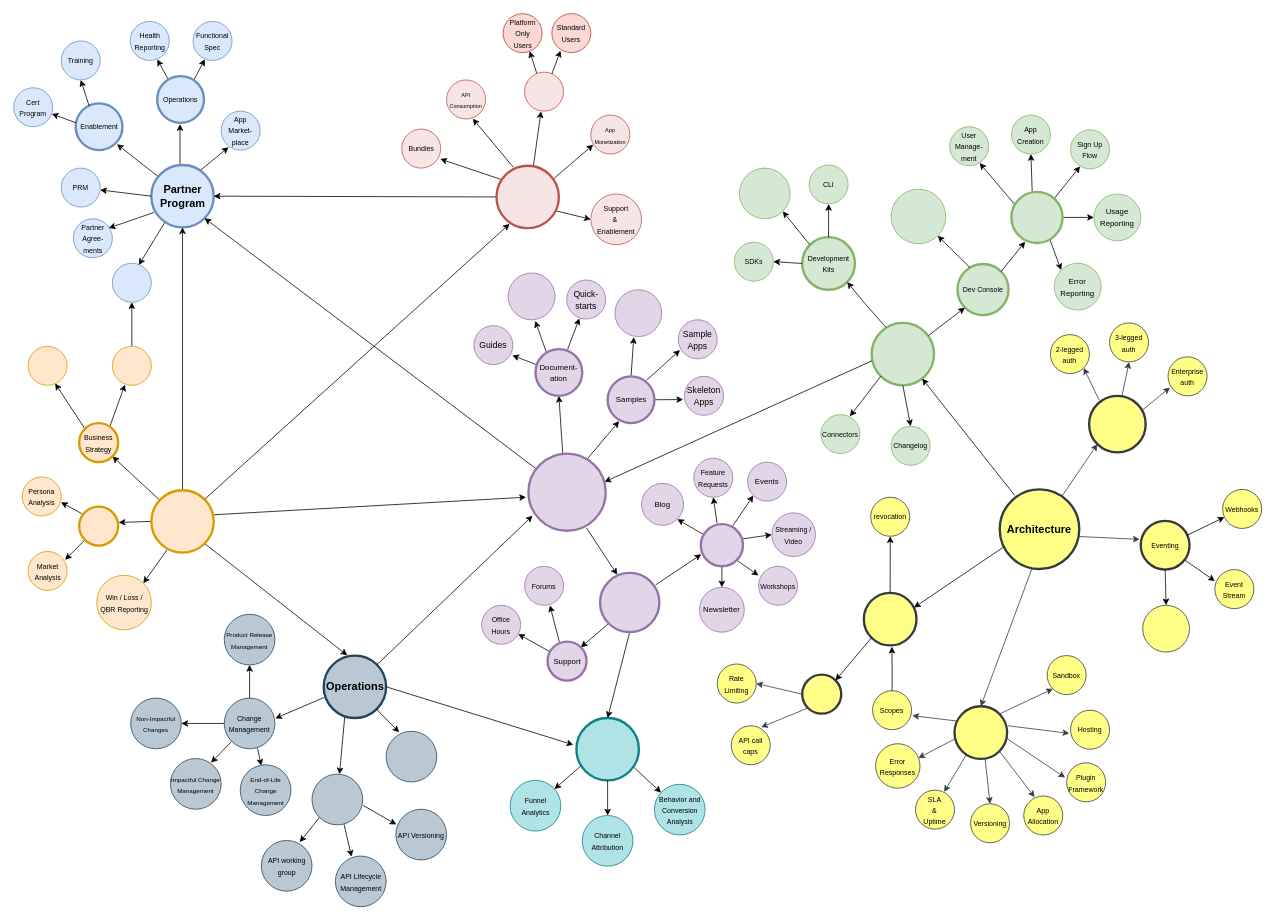
Some shapes in this 1275 by 920 pixel diagram are drawn without their labels. Each missing label, with the centre of its shape:
API Client Collections: the point at 764,193
API Governance: the point at 337,799
API Key Management: the point at 918,216
API Reference: the point at 531,296
App / API Management: the point at 980,732
App Management Dashboard: the point at 1036,217
Authentication / Authorization: the point at 1117,423
Business: the point at 182,521
Code Samples: the point at 638,313
Dev Tools: the point at 902,353
Developer Experience: the point at 566,492
Engagement: the point at 629,602
Historical Event Querying: the point at 1166,628
Limits & Rates: the point at 821,693
Outreach: the point at 721,545
Platform Strategy: the point at 131,365
Playbooks: the point at 47,365
Pricing: the point at 527,196
Product Analytics: the point at 607,748
Product Roadmap: the point at 411,756
Segment Analysis: the point at 98,525
Target Use Cases: the point at 131,282
Token Management: the point at 889,618
User Monitization: the point at 544,91
